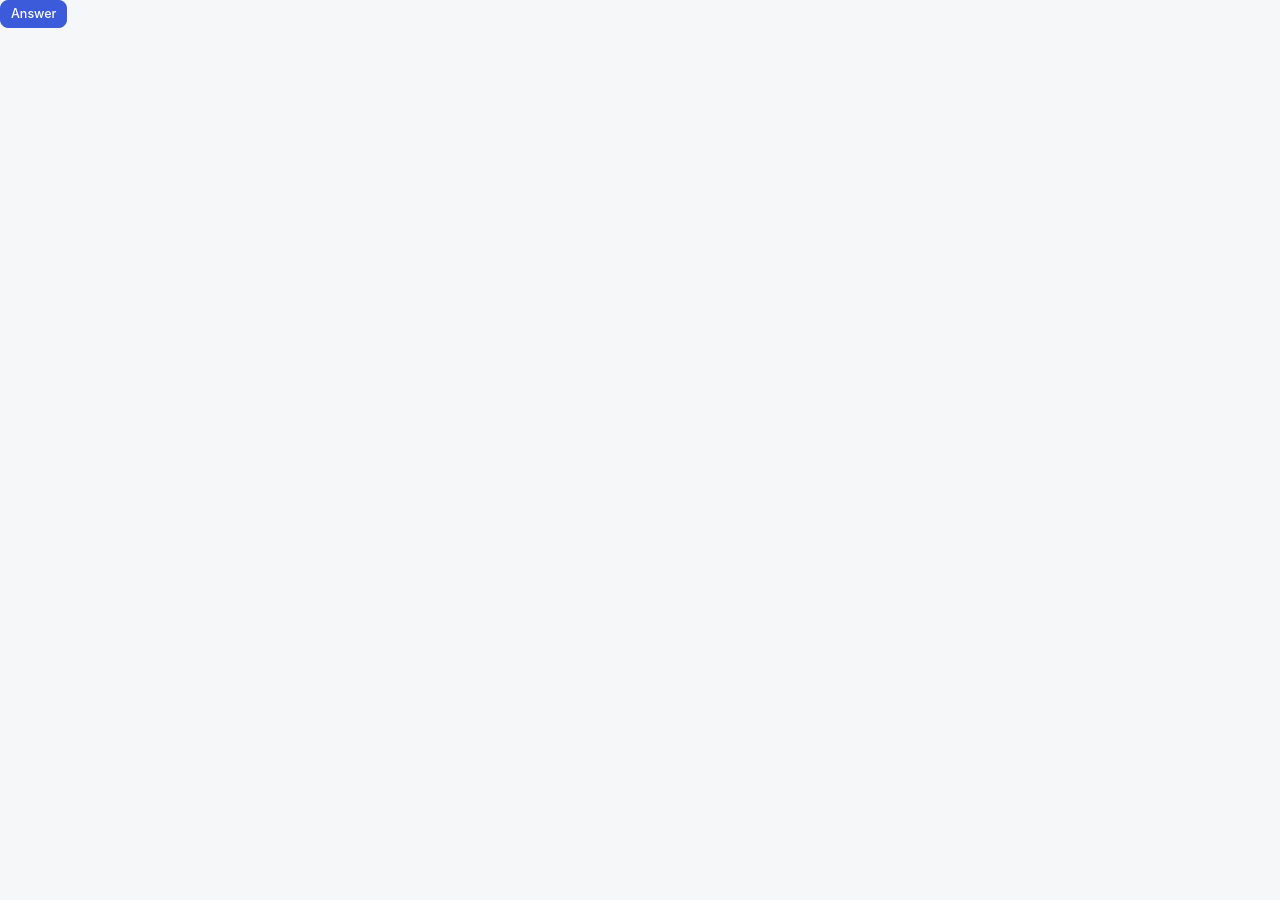
the answer dialog › shows the background, why it matters, each option and what happens
Click the button with aria-label "Answer codex on RCP-17" at (34, 14), box [0, 0, 68, 28]
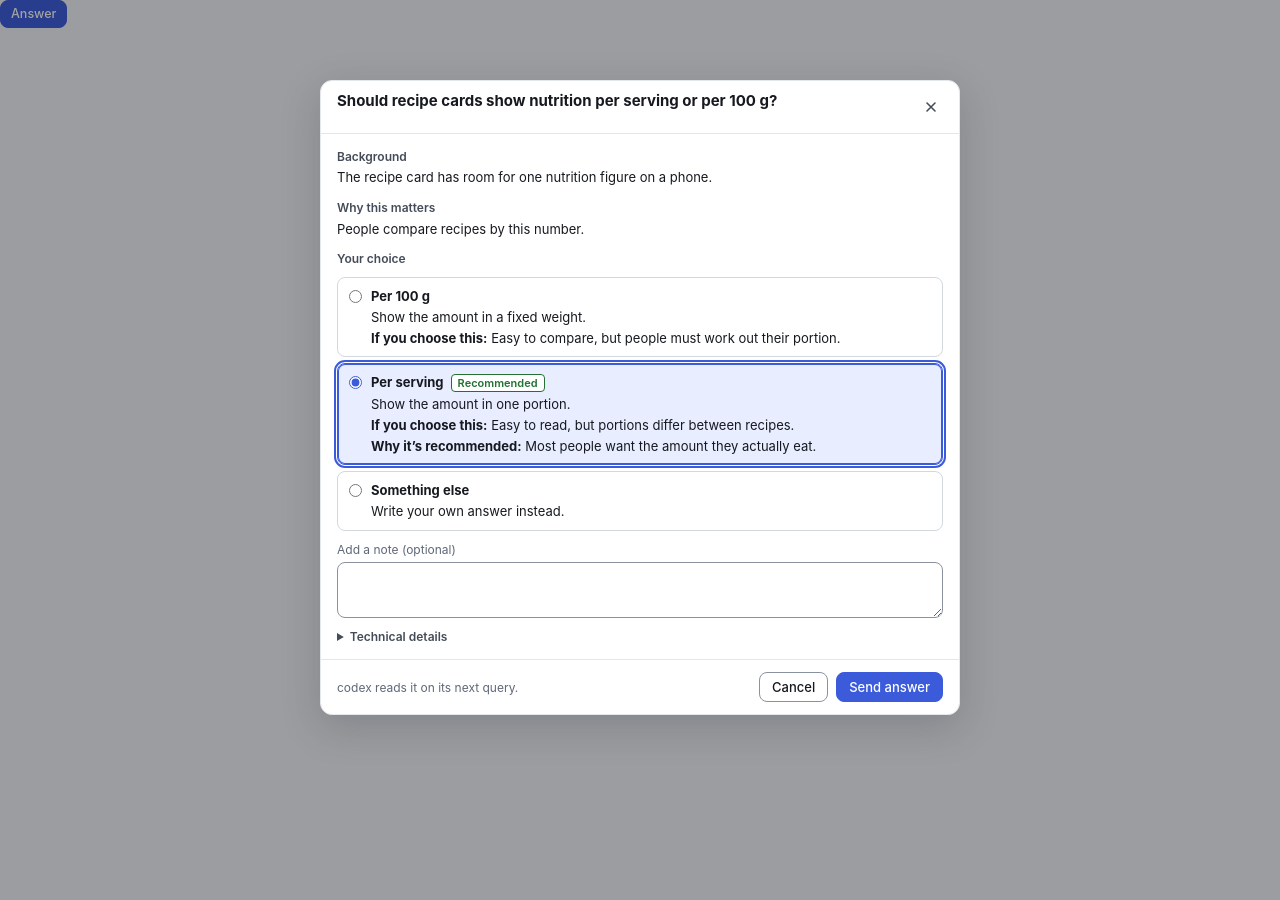
Result: the heading "Should recipe cards show nutrition per serving or per 100 g?" is shown at [337, 91, 777, 111]
Result: the heading "Background" is shown at [337, 149, 407, 164]
Result: the text "The recipe card has room for one nutrition figure on a phone." is shown at [337, 169, 712, 185]
